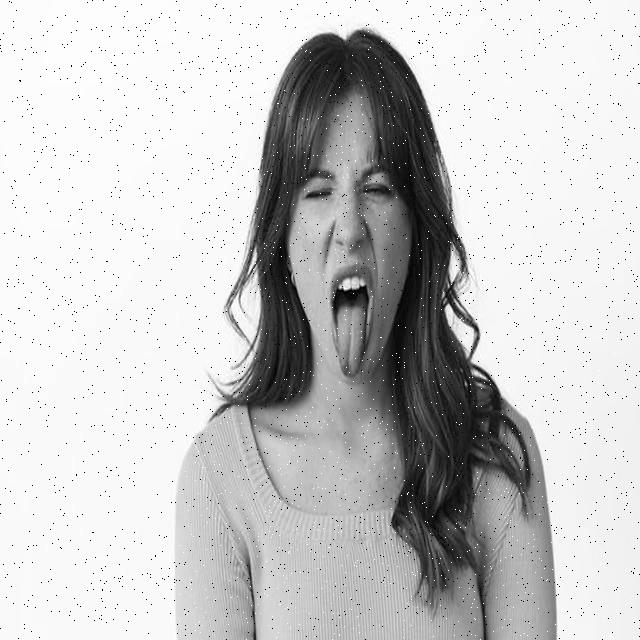Disgust: (286, 82, 414, 386)
